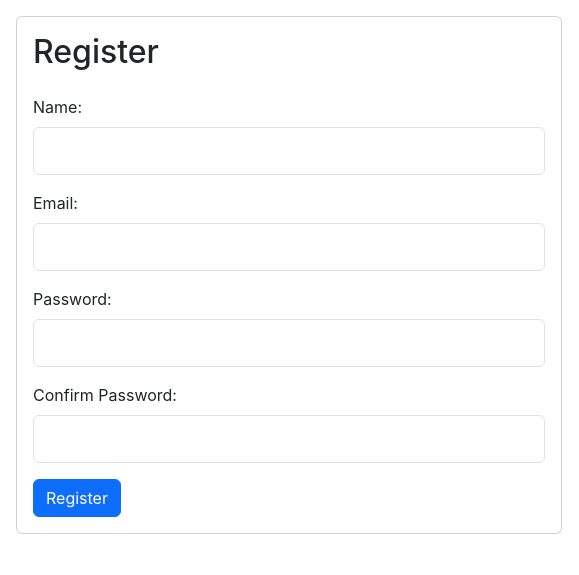
Test: Register component › displays error message when passwords do not match
This screenshot has width=579, height=575.
In the password field labelled "Password:": (289, 343) [33,319,545,367], type "password123"
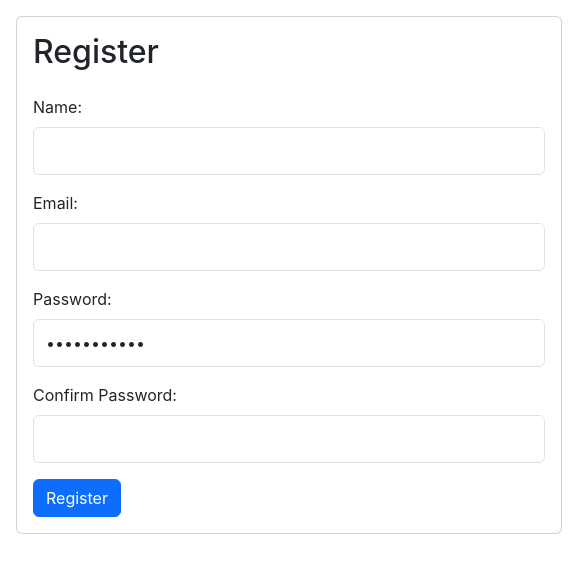
In the password field labelled "Confirm Password:": (289, 439) [33,415,545,463], type "password1234"
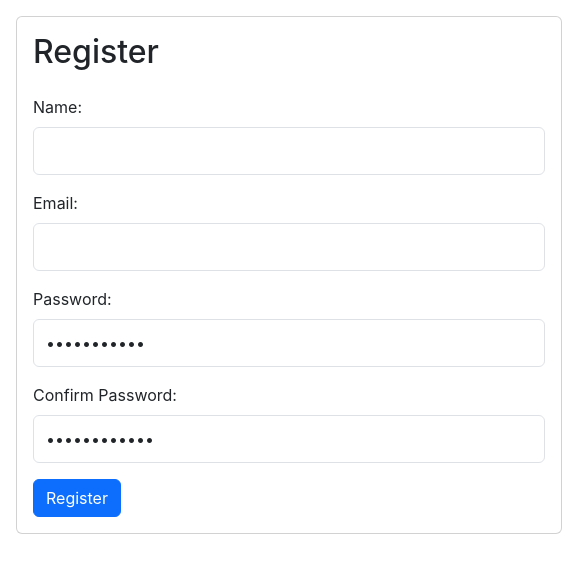
Click the button "Register": (77, 498) [33,479,121,517]
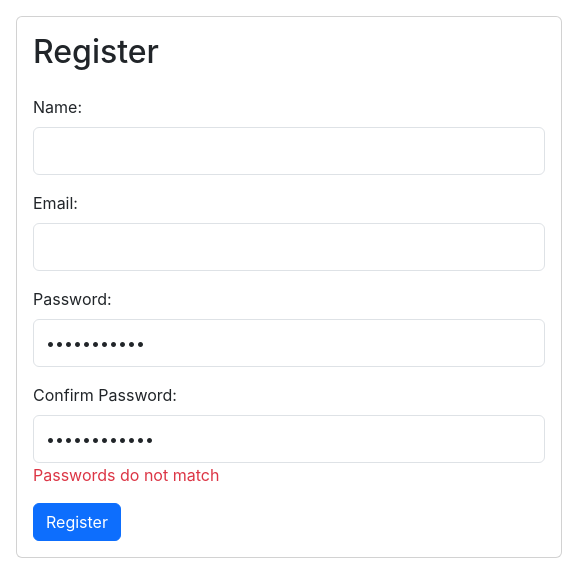
Result: the text "Passwords do not match" is shown at [33,465,219,485]
